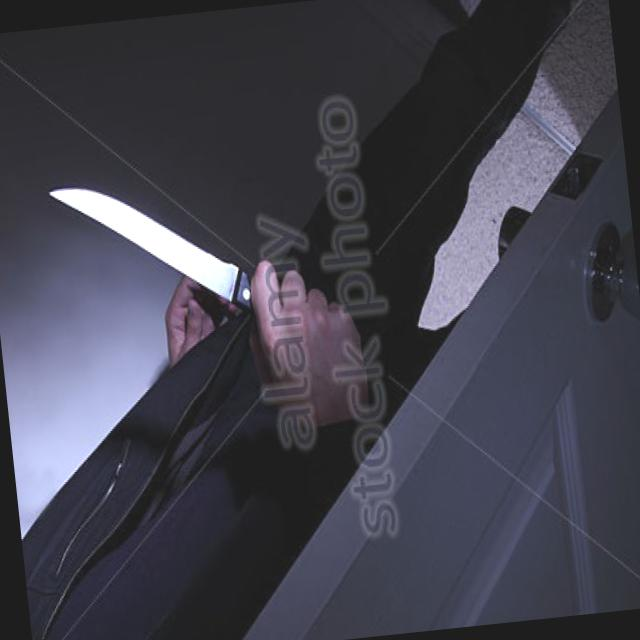knife: (38, 148, 350, 377)
